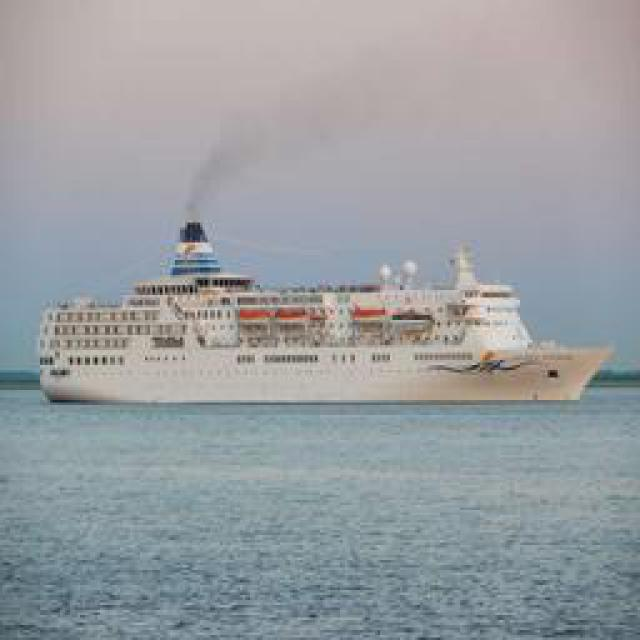Ship: (44, 215, 617, 408)
